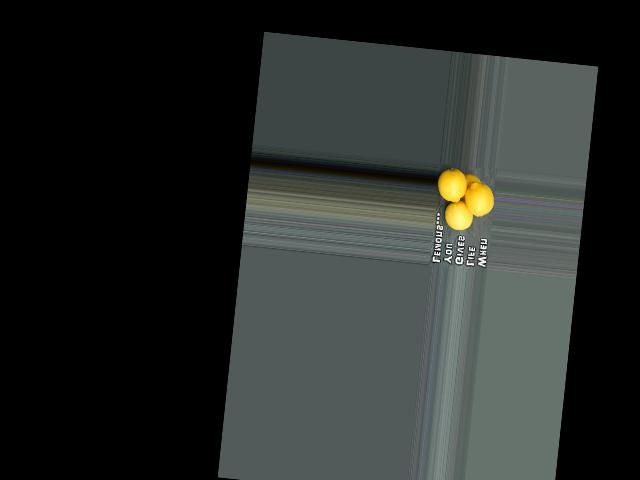lemon: (437, 167, 467, 205)
